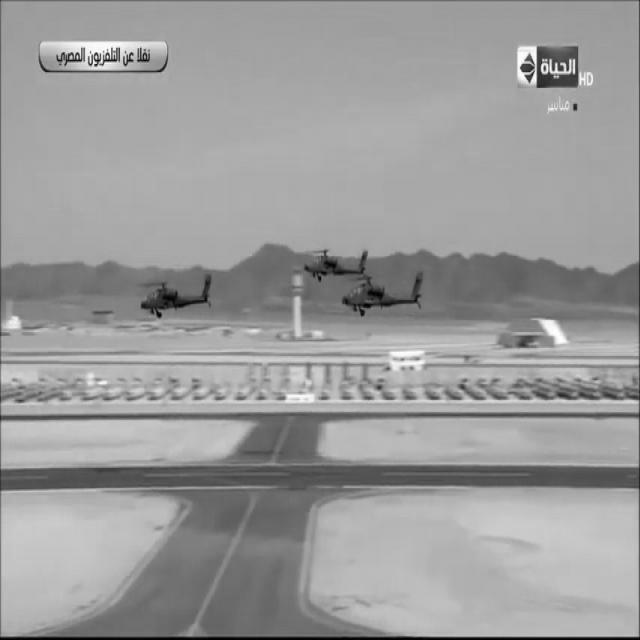helikopter: (134, 257, 230, 335), (292, 224, 372, 287)
